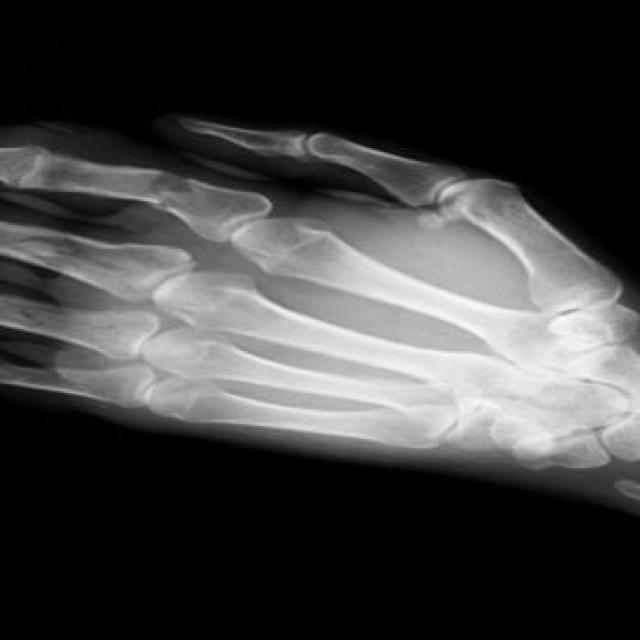Fracture: (8, 228, 156, 282), (124, 166, 238, 215), (0, 298, 113, 339)
